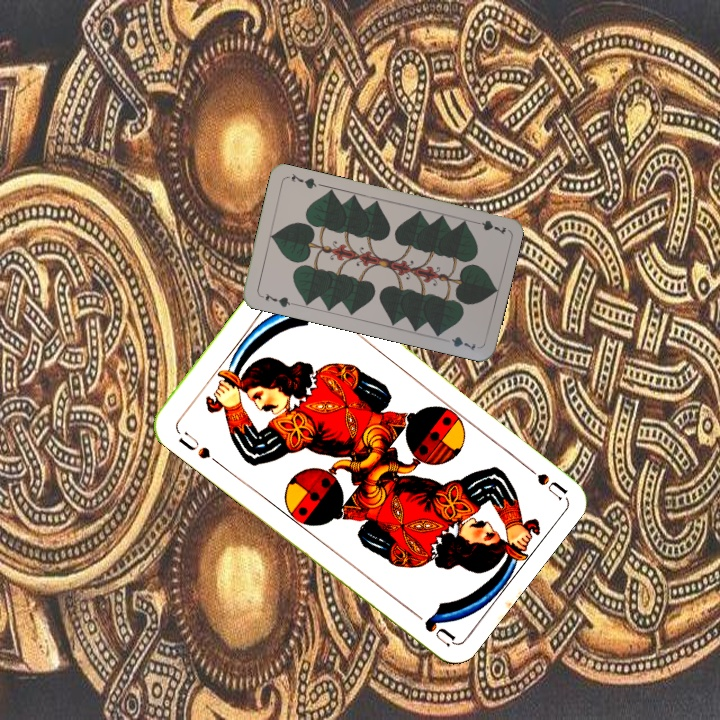G7: (256, 289, 296, 310), (468, 216, 508, 237)
SU: (515, 457, 569, 502), (174, 426, 223, 468)
